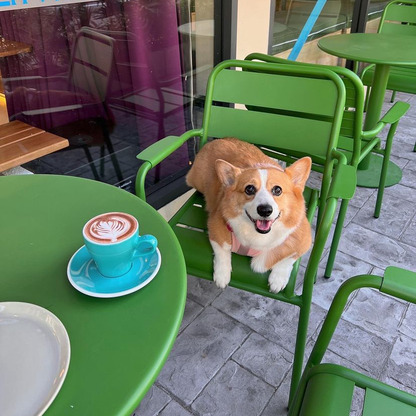Corgi: (184, 136, 320, 304)
